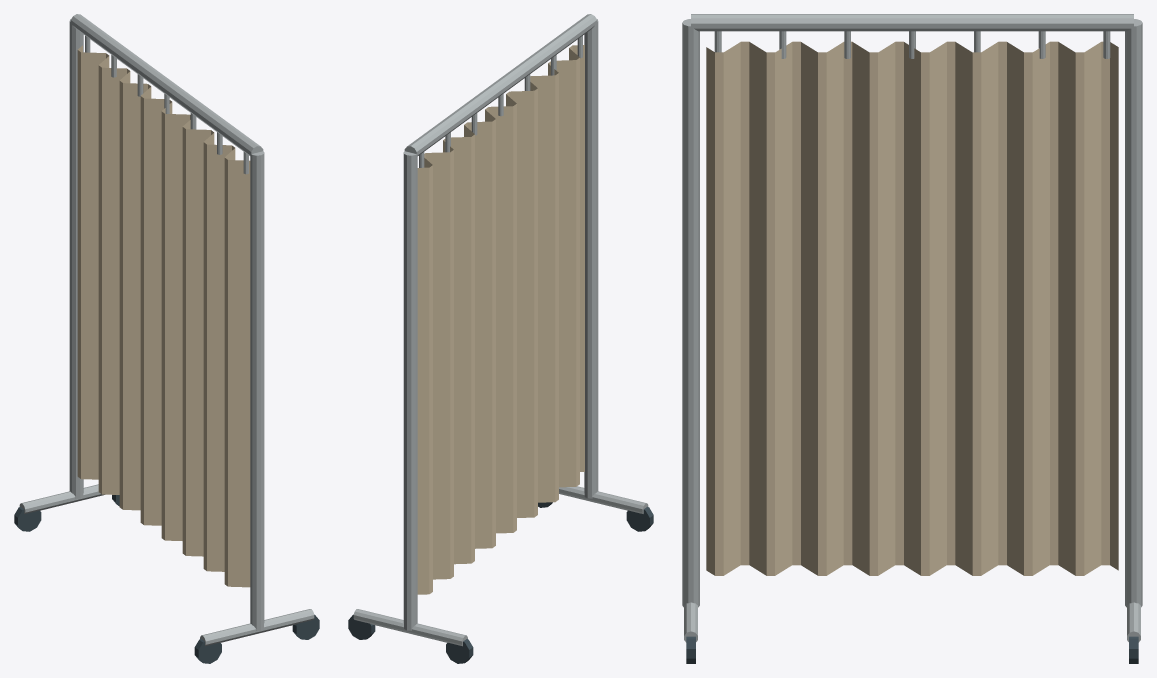
Rendered from PrivacyCurtain_starter.glb.
The picture shows the model from 3 angles, left to right: view 1: azimuth 30°, elevation 25°; view 2: azimuth 150°, elevation 25°; view 3: azimuth 270°, elevation 25°; orthographic projection. The views are drawn at different scales.
Parts seen in each view (by area): view 1: Static_linen, Static_steel, Static_dark; view 2: Static_linen, Static_steel, Static_dark; view 3: Static_linen, Static_steel.
Boxes of the visible parts, x1,y1,x2,y2 form: Static_linen: (77,45,250,587); Static_steel: (19,14,314,646); Static_dark: (14,495,319,663); Static_linen: (417,45,584,594); Static_steel: (353,14,648,646); Static_dark: (348,502,653,663); Static_linen: (706,41,1118,575); Static_steel: (682,14,1142,642).
Size of the model in its own units: 0.4456 by 1.77 by 1.2.
